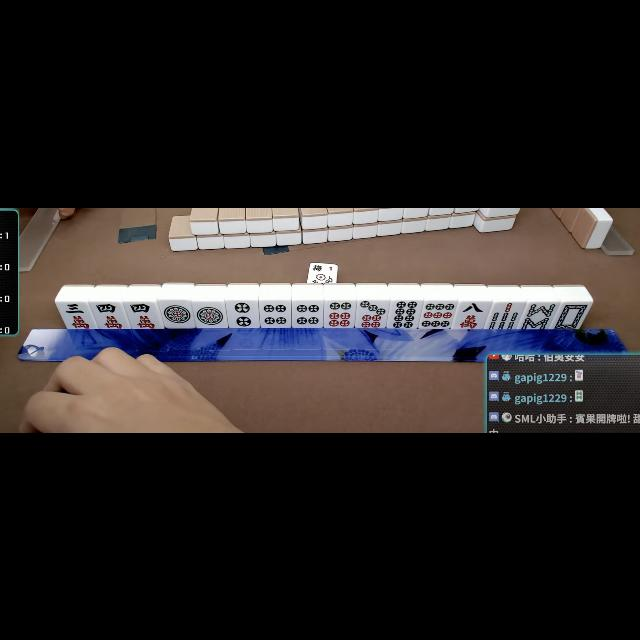b7: (486, 301, 520, 329)
b8: (520, 300, 556, 330)
c3: (62, 300, 92, 330)
c4: (94, 301, 126, 329), (126, 299, 158, 327)
c8: (454, 299, 486, 329)
d1: (160, 300, 193, 328), (194, 302, 226, 328)
d2: (228, 300, 258, 326)
d4: (292, 299, 324, 327), (260, 300, 290, 328)
d6: (326, 300, 354, 328)
d7: (357, 299, 387, 329)
d8: (390, 300, 420, 328)
d9: (421, 300, 455, 328)
dw: (555, 302, 587, 328)
f1: (307, 263, 338, 273)
